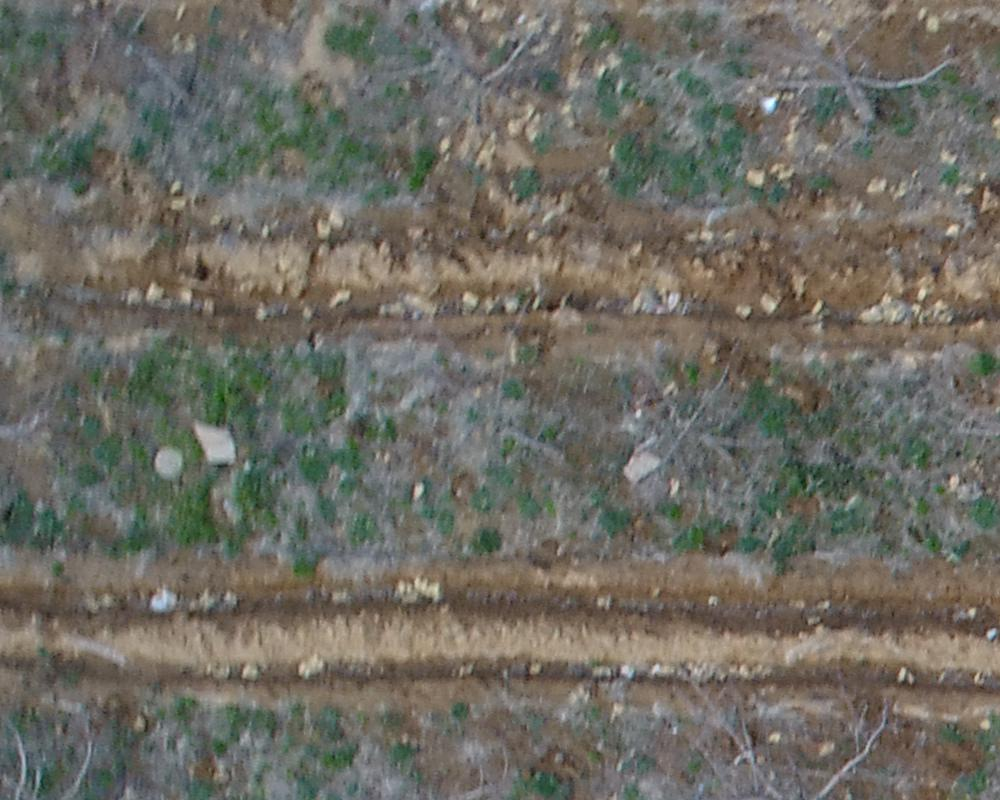apple: (654, 662, 908, 790), (737, 10, 990, 132), (385, 10, 571, 155), (613, 343, 788, 495)
